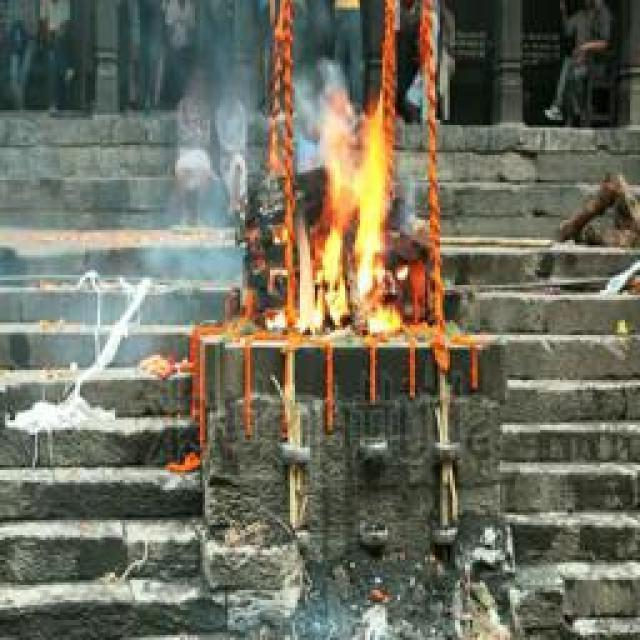Fire: (289, 96, 394, 336)
